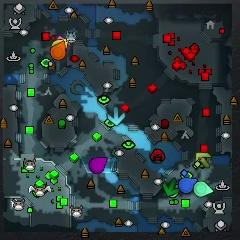p1: (180, 177, 198, 192)
p2: (193, 181, 213, 197)
p3: (88, 157, 107, 173)
p4: (52, 39, 68, 48)
p5: (50, 41, 66, 60)
x1: (57, 36, 69, 44)
x2: (195, 152, 211, 167)
x3: (108, 107, 125, 126)
x4: (162, 178, 179, 196)
